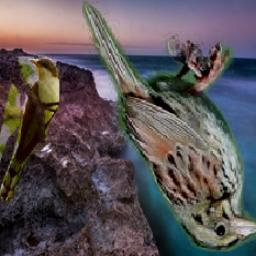Cuckoo: (0, 57, 60, 202)
Sparrow: (84, 2, 256, 253)
